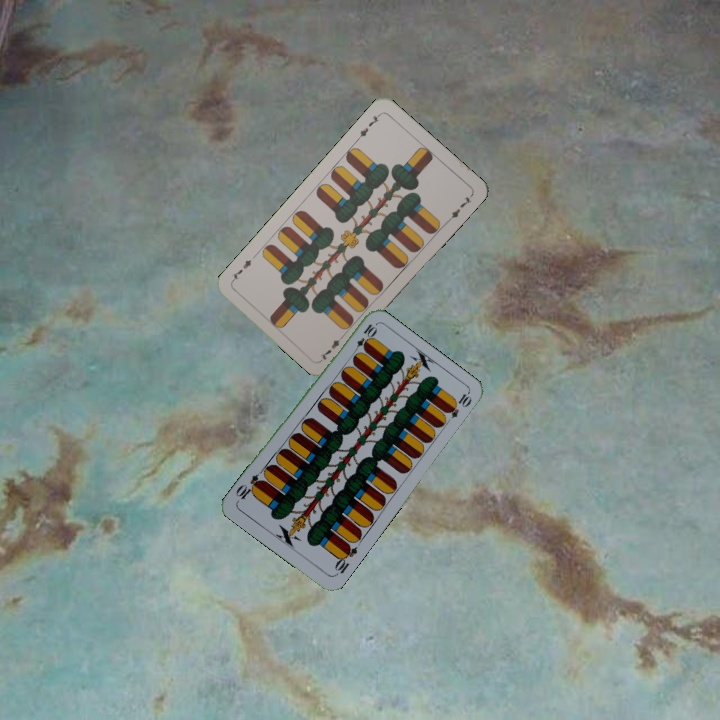E10: (330, 540, 360, 578), (349, 320, 379, 357)
E7: (316, 330, 348, 363), (353, 109, 383, 143)
